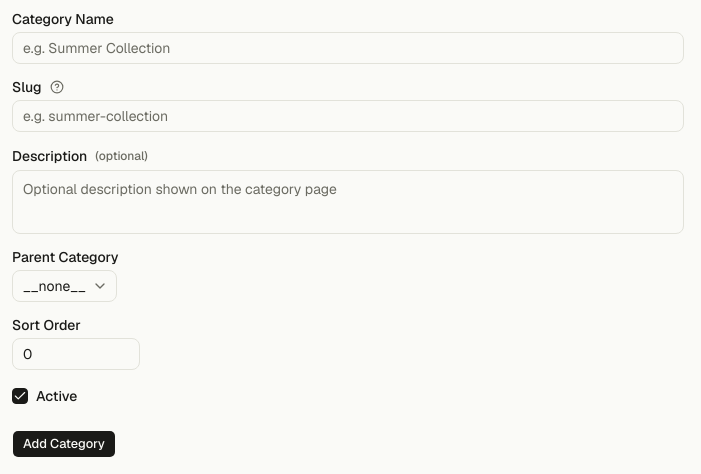
Test: CategoryForm › auto-fills slug from name in create mode
Type "Summer Collection" into the field labelled "Category Name".
click(348, 48); type("Summer Collection")  # box x1=12 y1=32 x2=684 y2=64
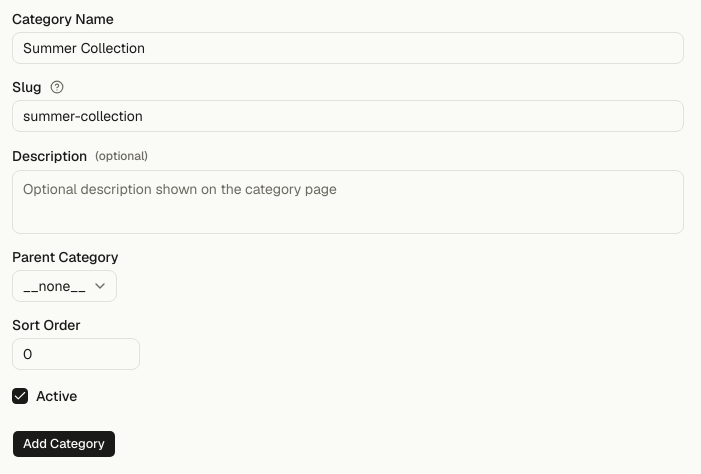
Now the field with id "cat-slug" holds "summer-collection", box x1=12 y1=100 x2=684 y2=132
